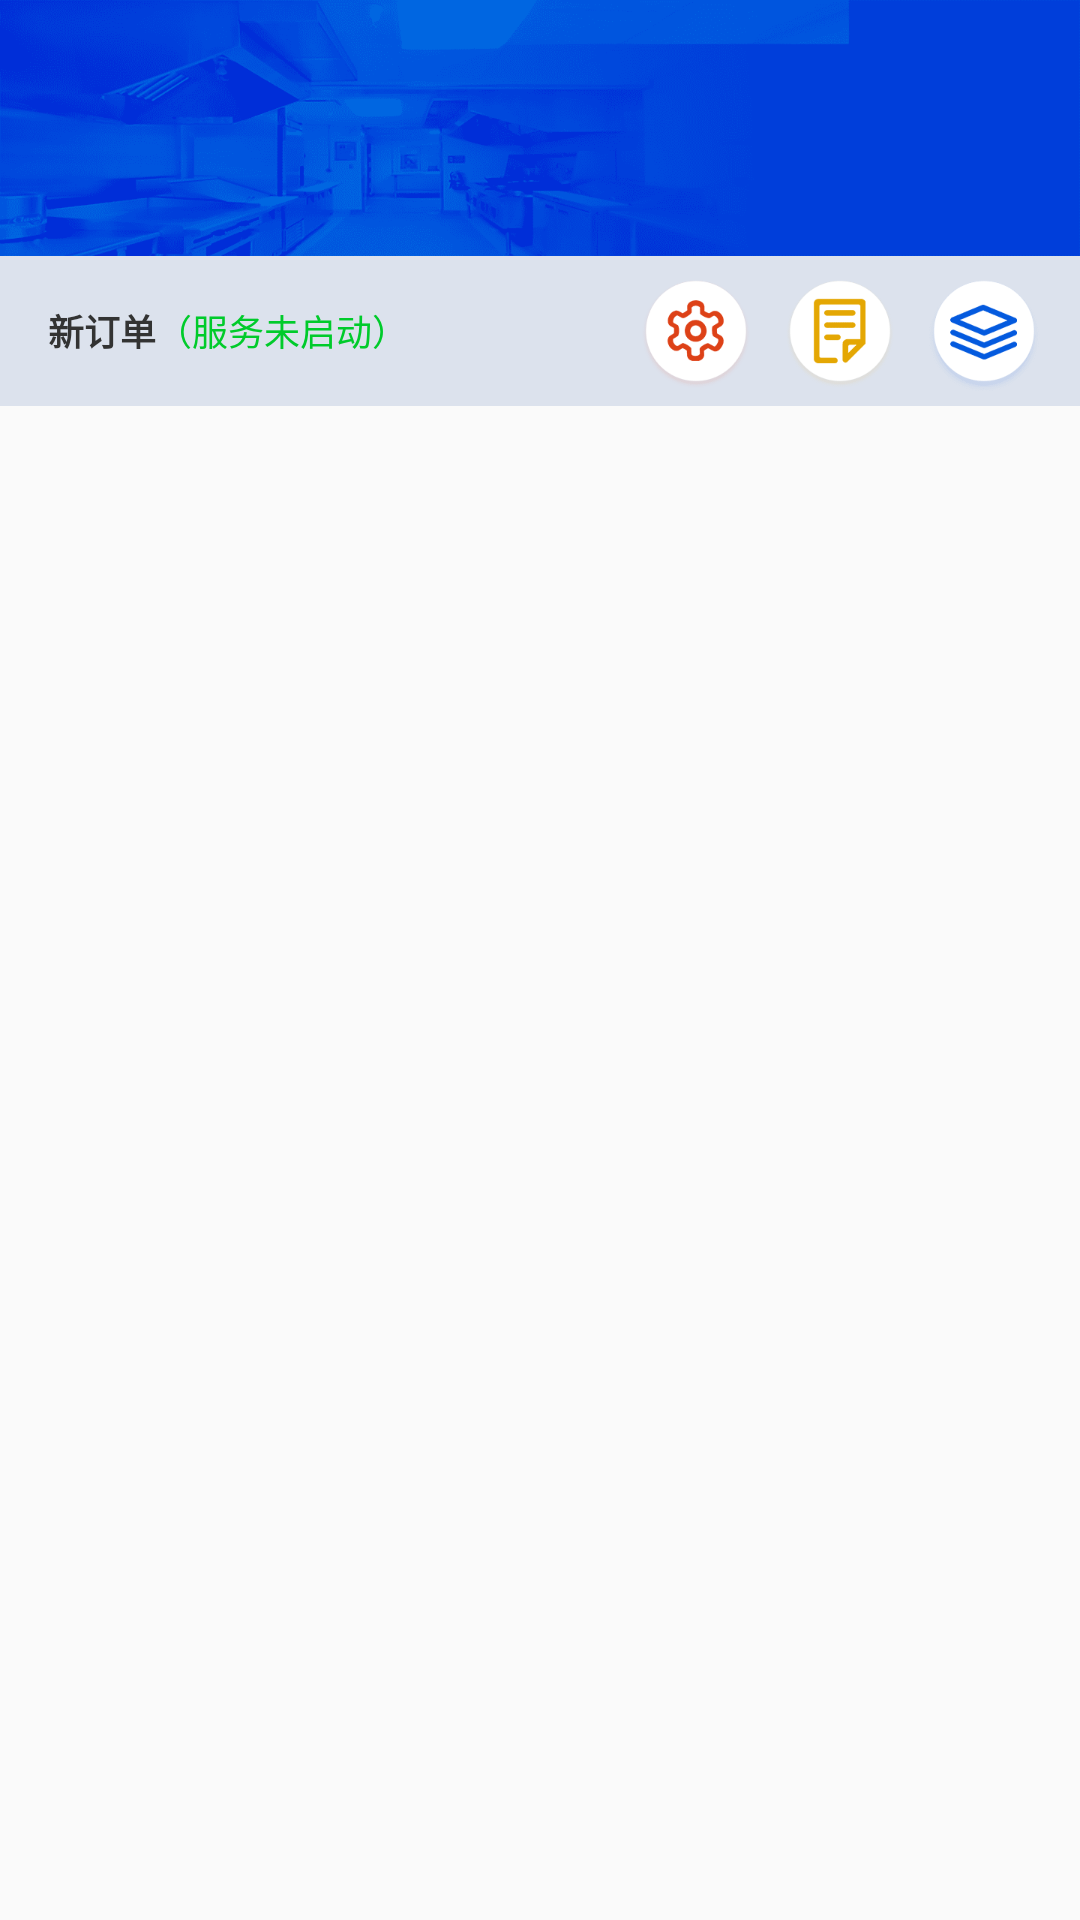

Icons on this 1080px x 1920px Android screen, each with its box as [x1,y1,x2,y2]:
history: [790,281,890,381]
setup: [646,281,746,381]
